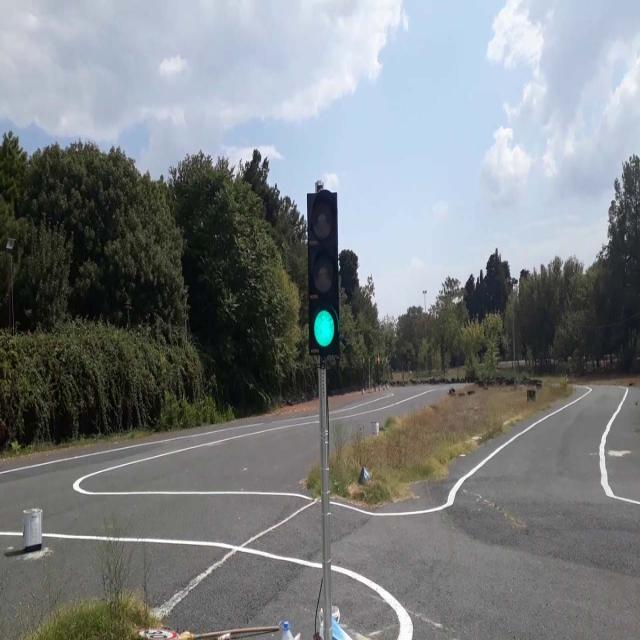yesil: (307, 192, 339, 354)
